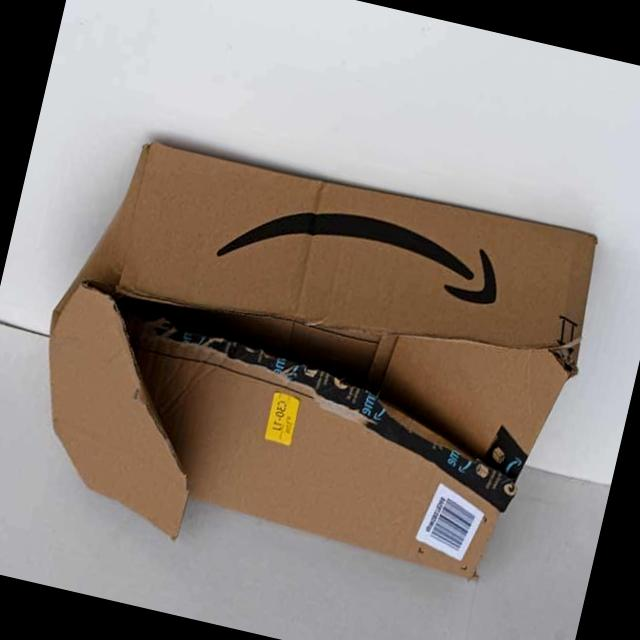Garbage: (0, 103, 617, 624)
